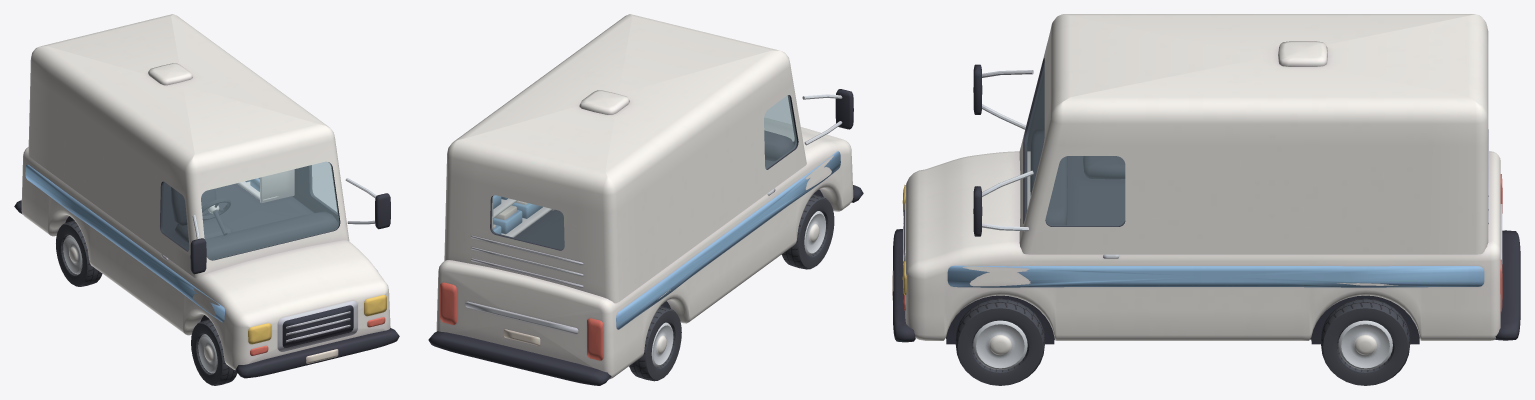
Rendered from mail-truck.glb.
3 views of the same model, side by side, from view 1: azimuth 30°, elevation 25°; view 2: azimuth 150°, elevation 25°; view 3: azimuth 270°, elevation 25° (orthographic). The views are drawn at different scales.
Visible parts, largest first — view 1: mail-truck_body, mail-truck_windows, mail-truck_wheel_fr, mail-truck_wheel_rr; view 2: mail-truck_body, mail-truck_windows, mail-truck_wheel_fr, mail-truck_wheel_rr; view 3: mail-truck_body, mail-truck_windows, mail-truck_wheel_fl, mail-truck_wheel_rl.
Part boxes in pixels (x1,y1,x2,y2): mail-truck_body: (14,14,399,378); mail-truck_windows: (161,161,339,259); mail-truck_wheel_fr: (191,319,237,385); mail-truck_wheel_rr: (56,220,102,286); mail-truck_body: (428,14,863,385); mail-truck_windows: (491,95,796,249); mail-truck_wheel_fr: (781,194,834,269); mail-truck_wheel_rr: (629,306,681,381); mail-truck_body: (892,14,1520,344); mail-truck_windows: (1025,64,1124,225); mail-truck_wheel_fl: (955,298,1045,385); mail-truck_wheel_rl: (1320,298,1410,385).
Bounding box in the file's own units: 2.48 × 2.54 × 5.02.
Materials: 18 (5 with a texture image).
